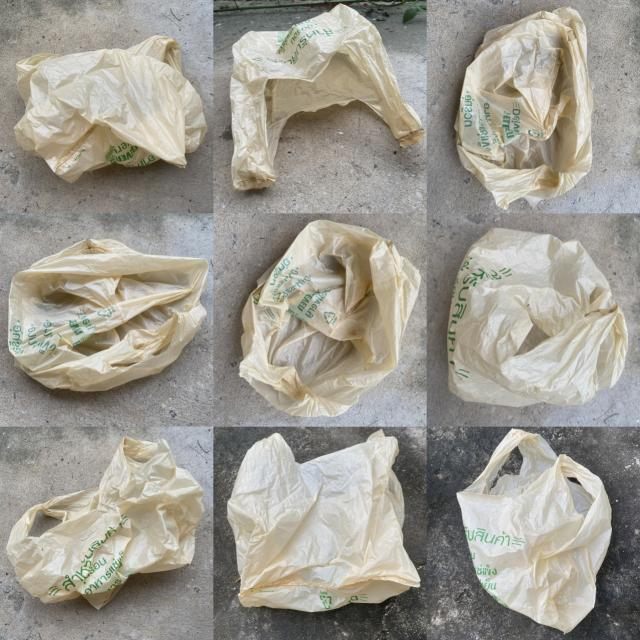Single-layer Plastic: (230, 5, 425, 190), (240, 220, 420, 417), (228, 430, 420, 612), (6, 436, 204, 609), (448, 228, 628, 406), (458, 429, 611, 632), (8, 240, 209, 391), (15, 36, 206, 182), (455, 8, 592, 209)
